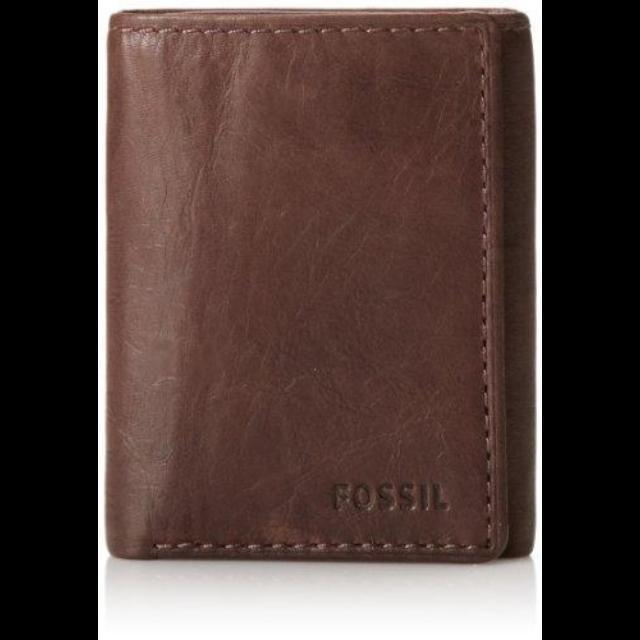wallet: (100, 4, 534, 570)
